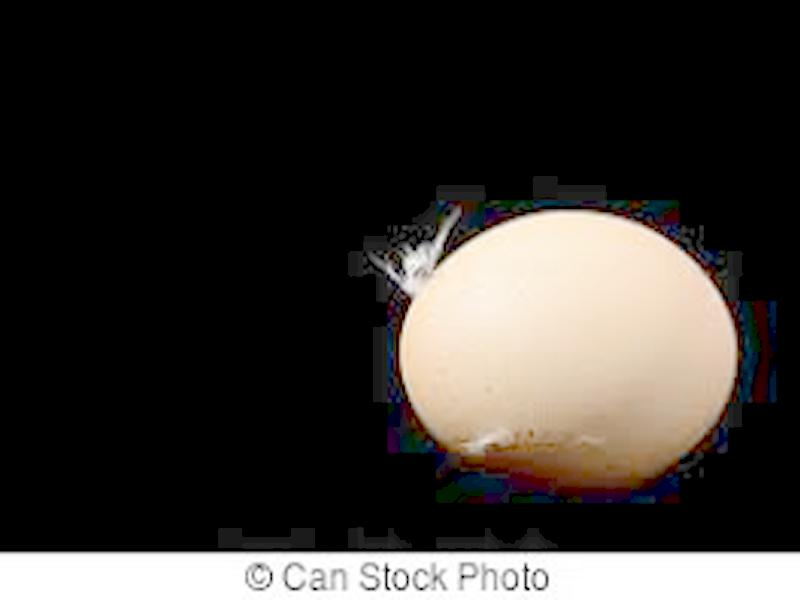Eggs: (400, 214, 736, 490)
